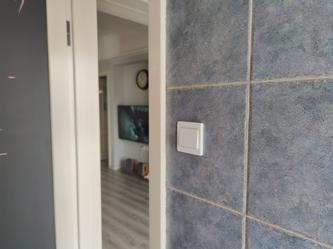switch: (177, 124, 202, 151)
